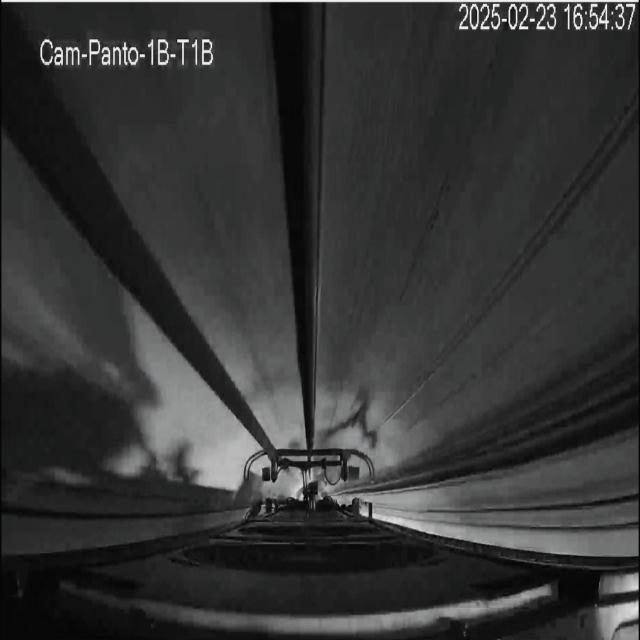Camera Stamp: (33, 25, 219, 71)
Date Stamp: (458, 3, 636, 33)
No - Spark: (244, 448, 375, 516)
